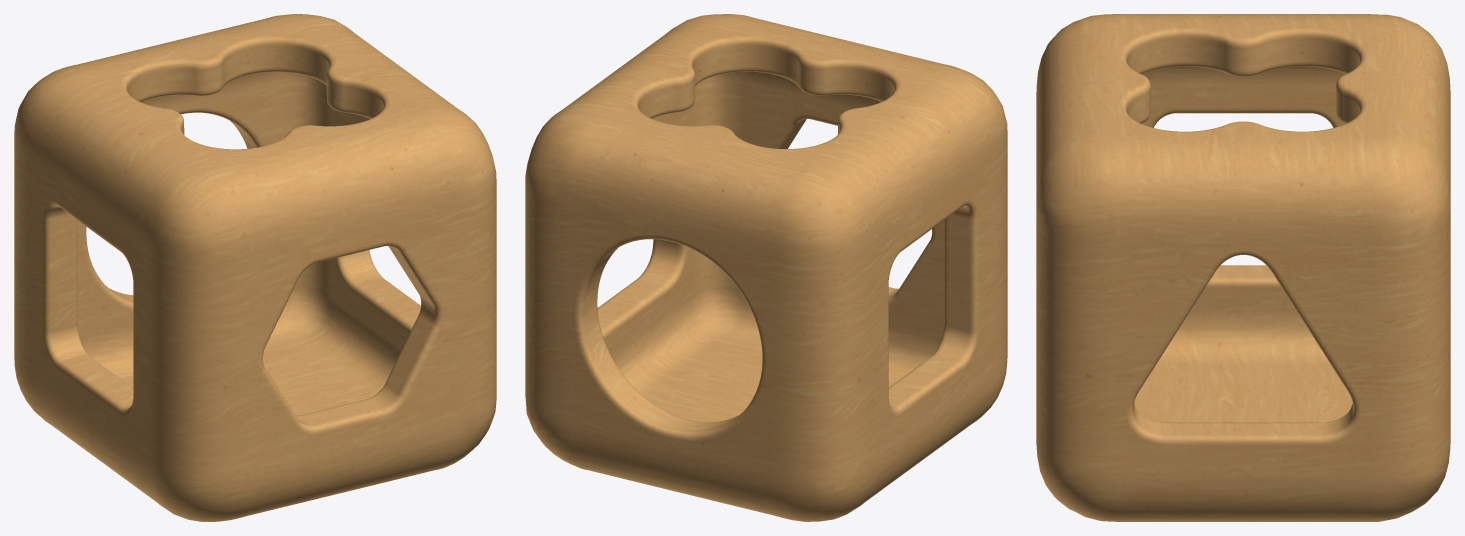
The model's file is box_render.glb.
3 renders of one model, left to right at view 1: azimuth 30°, elevation 25°; view 2: azimuth 150°, elevation 25°; view 3: azimuth 270°, elevation 25°, orthographic. The views are drawn at different scales.
Parts seen in each view (by area): view 1: NAUO1; view 2: NAUO1; view 3: NAUO1.
Part boxes in pixels (x1,y1,x2,y2): NAUO1: (14, 14, 496, 521); NAUO1: (525, 14, 1007, 521); NAUO1: (1036, 14, 1450, 521).
Bounding box in the file's own units: 0.05 × 0.05 × 0.05.
1 material, 1 textured.
